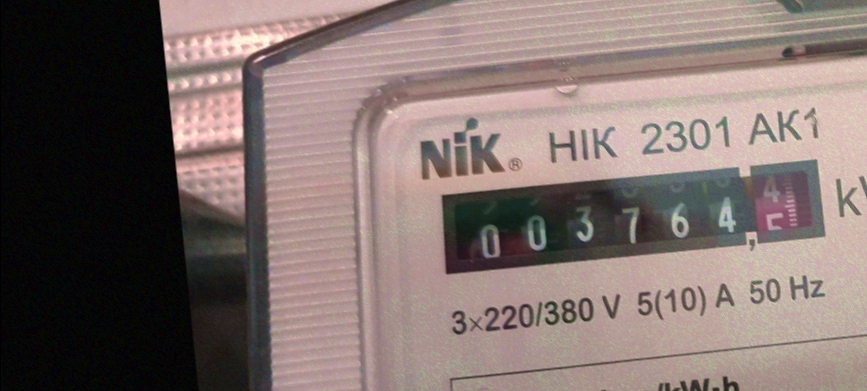0: (477, 220, 504, 260), (524, 211, 550, 252)
3: (571, 202, 598, 244)
4: (715, 193, 739, 234), (760, 171, 784, 204)
5: (763, 209, 787, 233)
6: (668, 199, 692, 239)
7: (619, 202, 646, 246)
screen: (423, 139, 843, 290)
